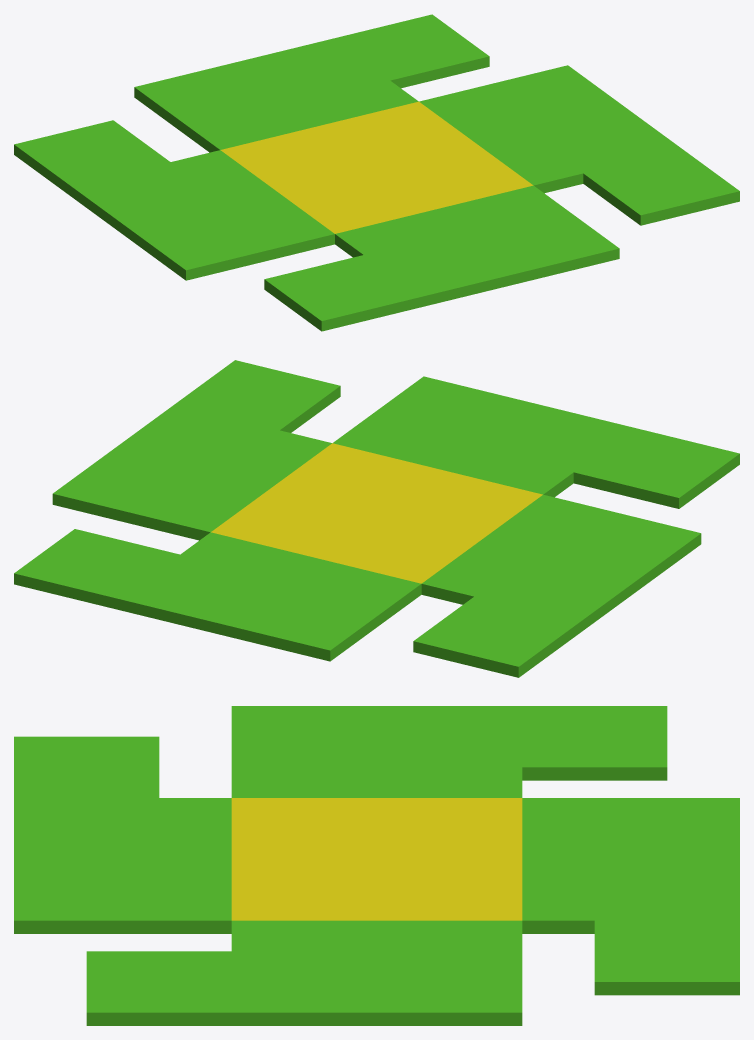
The model's file is stadium02.fbx.
3 renders of one model, top to bottom at view 1: azimuth 30°, elevation 25°; view 2: azimuth 150°, elevation 25°; view 3: azimuth 270°, elevation 25°, orthographic. The views are drawn at different scales.
Parts seen in each view (by area): view 1: Box021, Box020, Box019, Box018, 1; view 2: Box018, Box020, Box019, Box021, 1; view 3: Box019, Box018, Box021, Box020, 1.
Boxes of the visible parts, bbox=[...] form: Box021: bbox=[264, 185, 619, 331]; Box020: bbox=[14, 120, 334, 280]; Box019: bbox=[419, 65, 739, 225]; Box018: bbox=[134, 14, 489, 152]; 1: bbox=[220, 101, 533, 233]; Box018: bbox=[14, 529, 421, 661]; Box020: bbox=[413, 494, 701, 677]; Box019: bbox=[52, 360, 340, 540]; Box021: bbox=[333, 376, 739, 508]; 1: bbox=[211, 443, 542, 583]; Box019: bbox=[86, 920, 522, 1025]; Box018: bbox=[522, 798, 739, 995]; Box021: bbox=[14, 736, 231, 933]; Box020: bbox=[231, 706, 667, 797]; 1: bbox=[231, 798, 522, 920].
Bounding box in the file's own units: 1000 × 20 × 1000.
